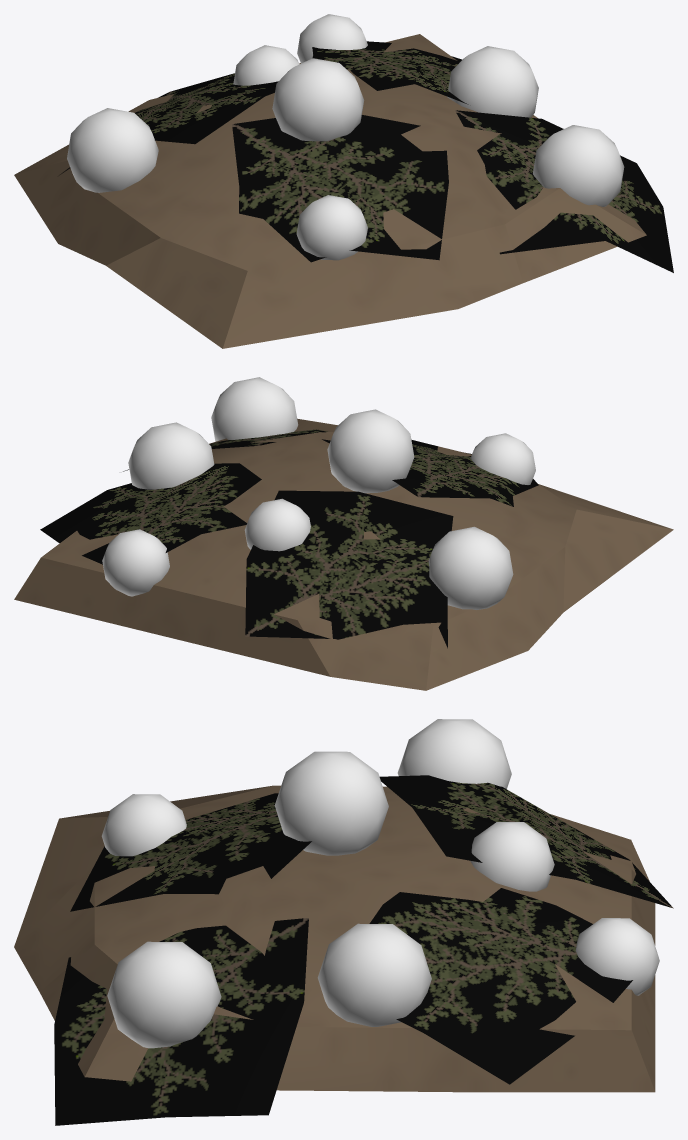
Rendered from BubblePileFloor.fbx.
3 renders of one model, top to bottom at view 1: azimuth 30°, elevation 25°; view 2: azimuth 150°, elevation 25°; view 3: azimuth 270°, elevation 25°, orthographic. The views are drawn at different scales.
Visible parts, largest first — view 1: Cube.077; view 2: Cube.077; view 3: Cube.077.
Part boxes in pixels (<box>): Cube.077: <box>14,14,673,348</box>; Cube.077: <box>14,377,673,690</box>; Cube.077: <box>14,719,673,1125</box>.
Bounding box in the file's own units: 320 × 113 × 297.
